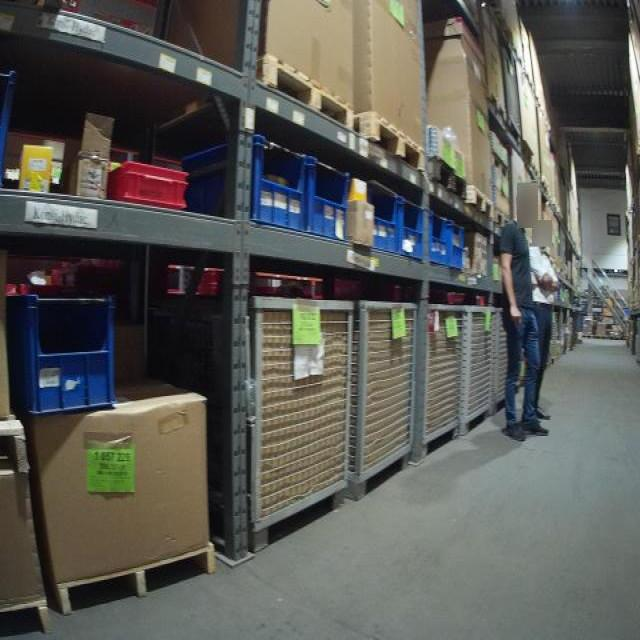pallet: (59, 545, 218, 615), (256, 52, 356, 132), (356, 107, 427, 173), (0, 595, 56, 640), (430, 156, 466, 200), (466, 180, 495, 220), (607, 334, 621, 343), (594, 334, 607, 341), (581, 333, 593, 340)
small_load_carrier: (5, 290, 125, 420), (177, 137, 306, 233), (299, 153, 349, 243), (111, 163, 194, 210), (364, 178, 396, 254), (2, 64, 21, 187), (396, 190, 421, 262), (425, 200, 447, 272), (445, 216, 466, 274)
stillage: (220, 296, 351, 558), (348, 295, 415, 502), (413, 294, 471, 453), (470, 304, 498, 441), (484, 306, 508, 409)
